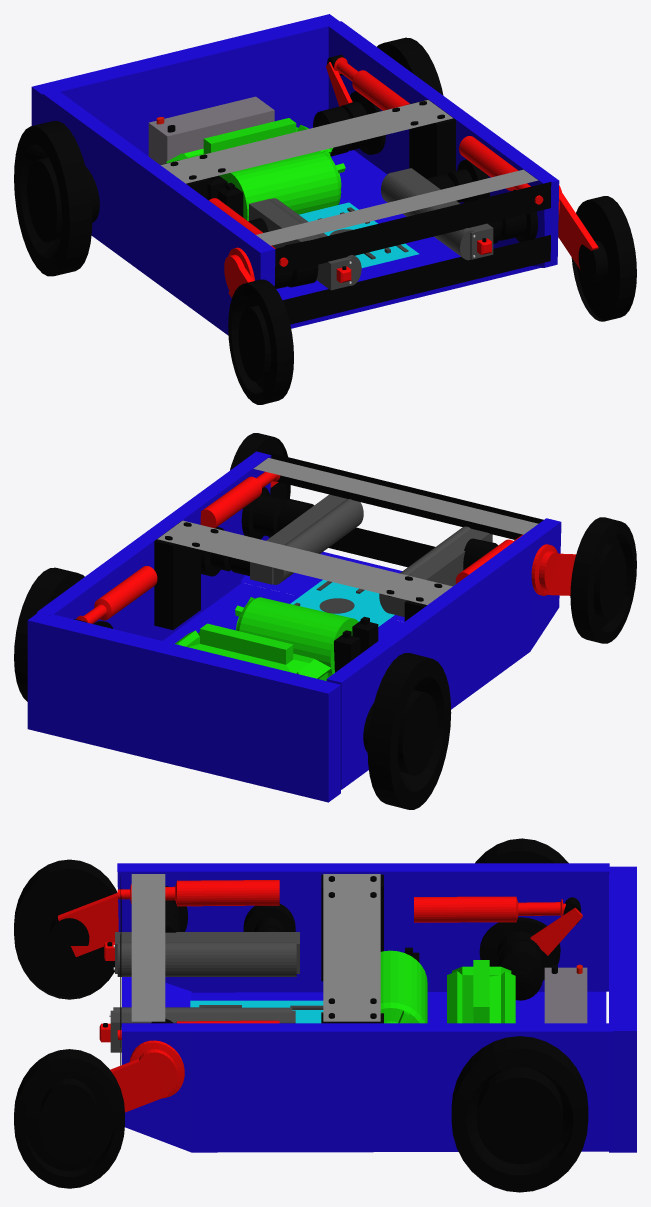
Rendered from Robotics.458a43f7.glb.
3 renders of one model, top to bottom at view 1: azimuth 30°, elevation 25°; view 2: azimuth 150°, elevation 25°; view 3: azimuth 270°, elevation 25°, orthographic. The views are drawn at different scales.
Visible parts, largest first — view 1: Cube.001, Cube.002, Cube, Cylinder.004, Plane.002, Plane.001, Cylinder.009, Plane.004, Cylinder.008, Cylinder.020, Cube.013, Plane.005 (+17 smaller); view 2: Cube.002, Cube.001, Cube, Cylinder.004, Cylinder.009, Plane.004, Cylinder.020, Plane.005, Cube.025, Cube.026, Plane.002, Cylinder.005 (+17 smaller); view 3: Cube, Cube.001, Cylinder.005, Cylinder.008, Cylinder.009, Plane.004, Cube.002, Cylinder.004, Plane.005, Cylinder.010, Cube.026, Cylinder (+15 smaller).
Part boxes in pixels (left/top/right/bottom): Cube.001: left=42, top=90, right=275, bottom=335; Cube.002: left=31, top=14, right=339, bottom=156; Cube: left=276, top=21, right=559, bottom=300; Cylinder.004: left=14, top=121, right=99, bottom=276; Plane.002: left=275, top=182, right=551, bottom=274; Plane.001: left=282, top=235, right=550, bottom=324; Cylinder.009: left=228, top=279, right=293, bottom=404; Plane.004: left=160, top=100, right=452, bottom=183; Cylinder.008: left=571, top=196, right=636, bottom=321; Cylinder.020: left=219, top=150, right=345, bottom=221; Cube.013: left=148, top=96, right=274, bottom=164; Plane.005: left=256, top=169, right=538, bottom=245; Cube.002: left=27, top=612, right=340, bottom=802; Cube.001: left=326, top=518, right=561, bottom=789; Cube: left=36, top=451, right=403, bottom=643; Cylinder.004: left=363, top=653, right=451, bottom=809; Cylinder.009: left=570, top=517, right=636, bottom=643; Plane.004: left=157, top=520, right=452, bottom=604; Cylinder.020: left=235, top=597, right=358, bottom=677; Plane.005: left=253, top=458, right=538, bottom=534; Cube.025: left=154, top=522, right=200, bottom=629; Cube.026: left=175, top=623, right=331, bottom=680; Plane.002: left=265, top=452, right=543, bottom=539; Cylinder.005: left=14, top=567, right=113, bottom=701; Cube: left=121, top=991, right=613, bottom=1152; Cube.001: left=117, top=863, right=609, bottom=992; Cylinder.005: left=451, top=1036, right=588, bottom=1192; Cylinder.008: left=14, top=1049, right=124, bottom=1188; Cylinder.009: left=14, top=859, right=117, bottom=999; Plane.004: left=323, top=874, right=380, bottom=1021; Cube.002: left=609, top=866, right=636, bottom=1152; Cylinder.004: left=475, top=838, right=568, bottom=1000; Plane.005: left=131, top=874, right=165, bottom=1021; Cylinder.010: left=117, top=942, right=296, bottom=976; Cube.026: left=447, top=960, right=515, bottom=1023; Cylinder: left=414, top=896, right=565, bottom=922.
Size of the model in its own units: 30.29 by 11.09 by 38.28.
